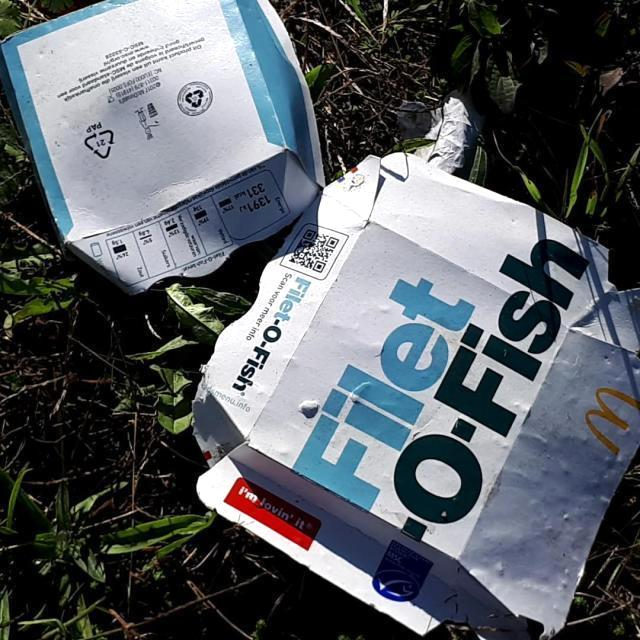Paper: (192, 152, 640, 640), (2, 0, 324, 290), (416, 94, 470, 174)
